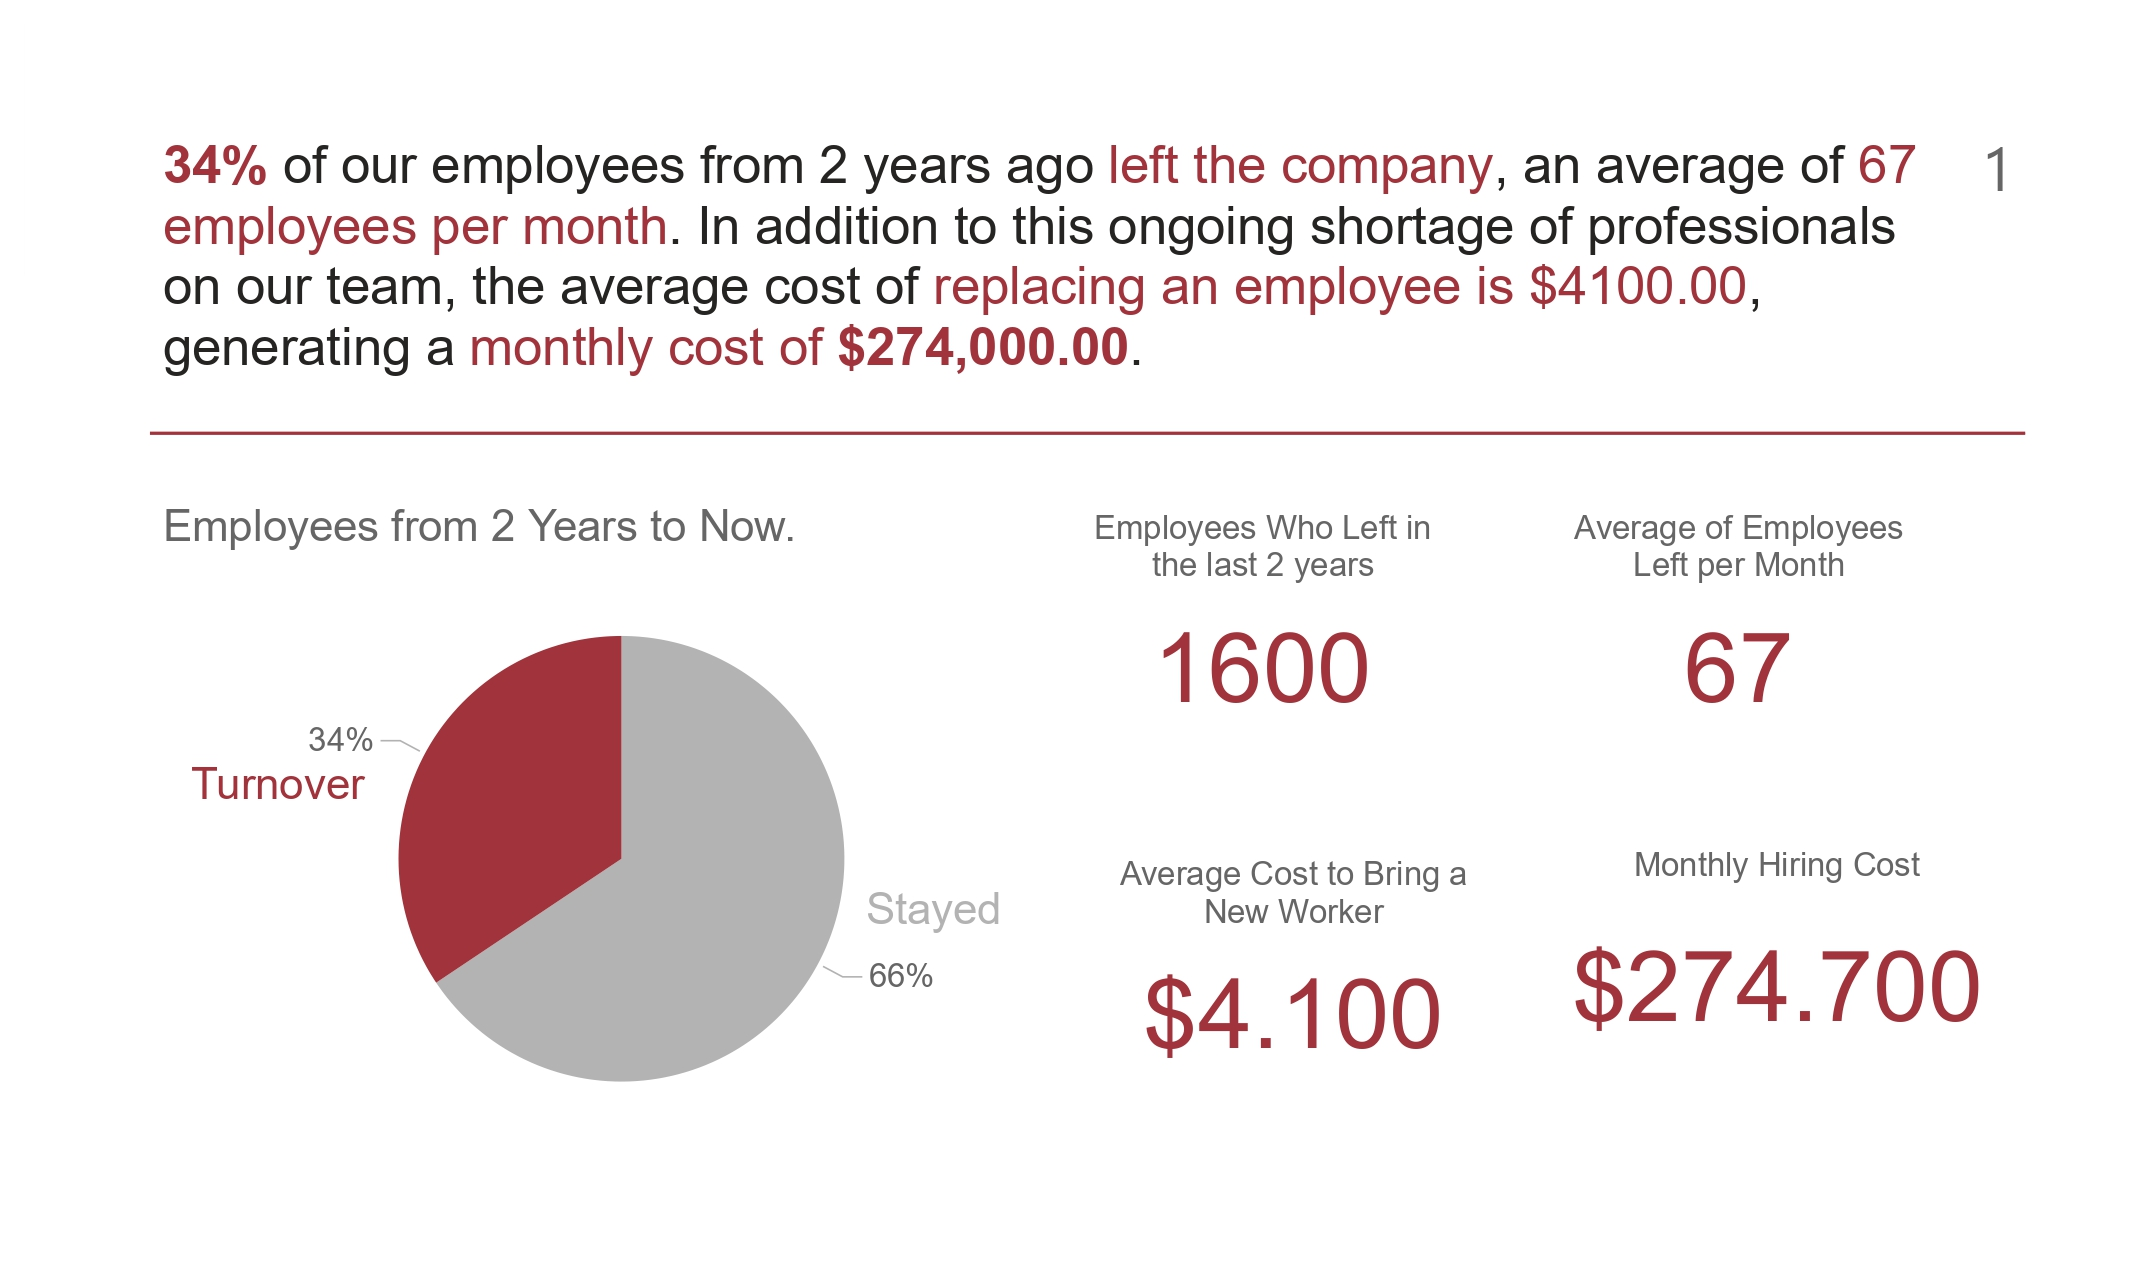

What the dashboard file says about the page in this screenshot:
{"tool":"powerbi","page":{"name":"Página 1","canvas":[1280,720],"ordinal":0},"visuals":[{"type":"textbox","box":[79,49.3,1108,165.3],"z":0},{"type":"pieChart","title":"Employees from 2 Years to Now.","fields":{"Y":["CountNonNull(Employee.LeaveOrNot)"],"Category":["Employee.LeaveOrNot"]},"box":[79,277.8,569.1,405.3],"z":1000},{"type":"textbox","box":[1187.1,43.6,34.5,58.9],"z":5000},{"type":"textbox","box":[96.3,430.1,126.5,47.4],"z":6000},{"type":"textbox","box":[507.3,506.3,126.5,47.4],"z":7000},{"type":"card","title":"Employees Who Left in the last 2 years","fields":{"Values":["CountNonNull(Employee.LeaveOrNot)"]},"box":[633.8,282.1,241.4,139.4],"z":8000},{"type":"card","title":"Average of Employees Left per Month","fields":{"Values":["Employee.turnover_per_month"]},"box":[924.1,282.1,241.4,139.4],"z":9000},{"type":"card","title":"Average Cost to Bring a New Worker","fields":{"Values":["Employee.cost_mean"]},"box":[648.1,493.4,250.1,139.4],"z":9001},{"type":"card","title":"Monthly Hiring Cost","fields":{"Values":["Employee.monthly_cost"]},"box":[916.9,487.6,301.8,139.4],"z":9002},{"type":"shape","box":[76.2,217,1142.5,37.4],"z":9003}]}

Visuals, with their boxes on the page's 1280x720 design canvas (x1, y1, x2, y2). These are canvas units, not pixel positions in the 2150x1275 screenshot, which may show the page scaled, cropped or inside an application window:
textbox: {"x1": 79, "y1": 49, "x2": 1187, "y2": 215}
"Employees from 2 Years to Now." pieChart: {"x1": 79, "y1": 278, "x2": 648, "y2": 683}
textbox: {"x1": 1187, "y1": 44, "x2": 1222, "y2": 102}
textbox: {"x1": 96, "y1": 430, "x2": 223, "y2": 478}
textbox: {"x1": 507, "y1": 506, "x2": 634, "y2": 554}
"Employees Who Left in the last 2 years" card: {"x1": 634, "y1": 282, "x2": 875, "y2": 422}
"Average of Employees Left per Month" card: {"x1": 924, "y1": 282, "x2": 1166, "y2": 422}
"Average Cost to Bring a New Worker" card: {"x1": 648, "y1": 493, "x2": 898, "y2": 633}
"Monthly Hiring Cost" card: {"x1": 917, "y1": 488, "x2": 1219, "y2": 627}
shape: {"x1": 76, "y1": 217, "x2": 1219, "y2": 254}
